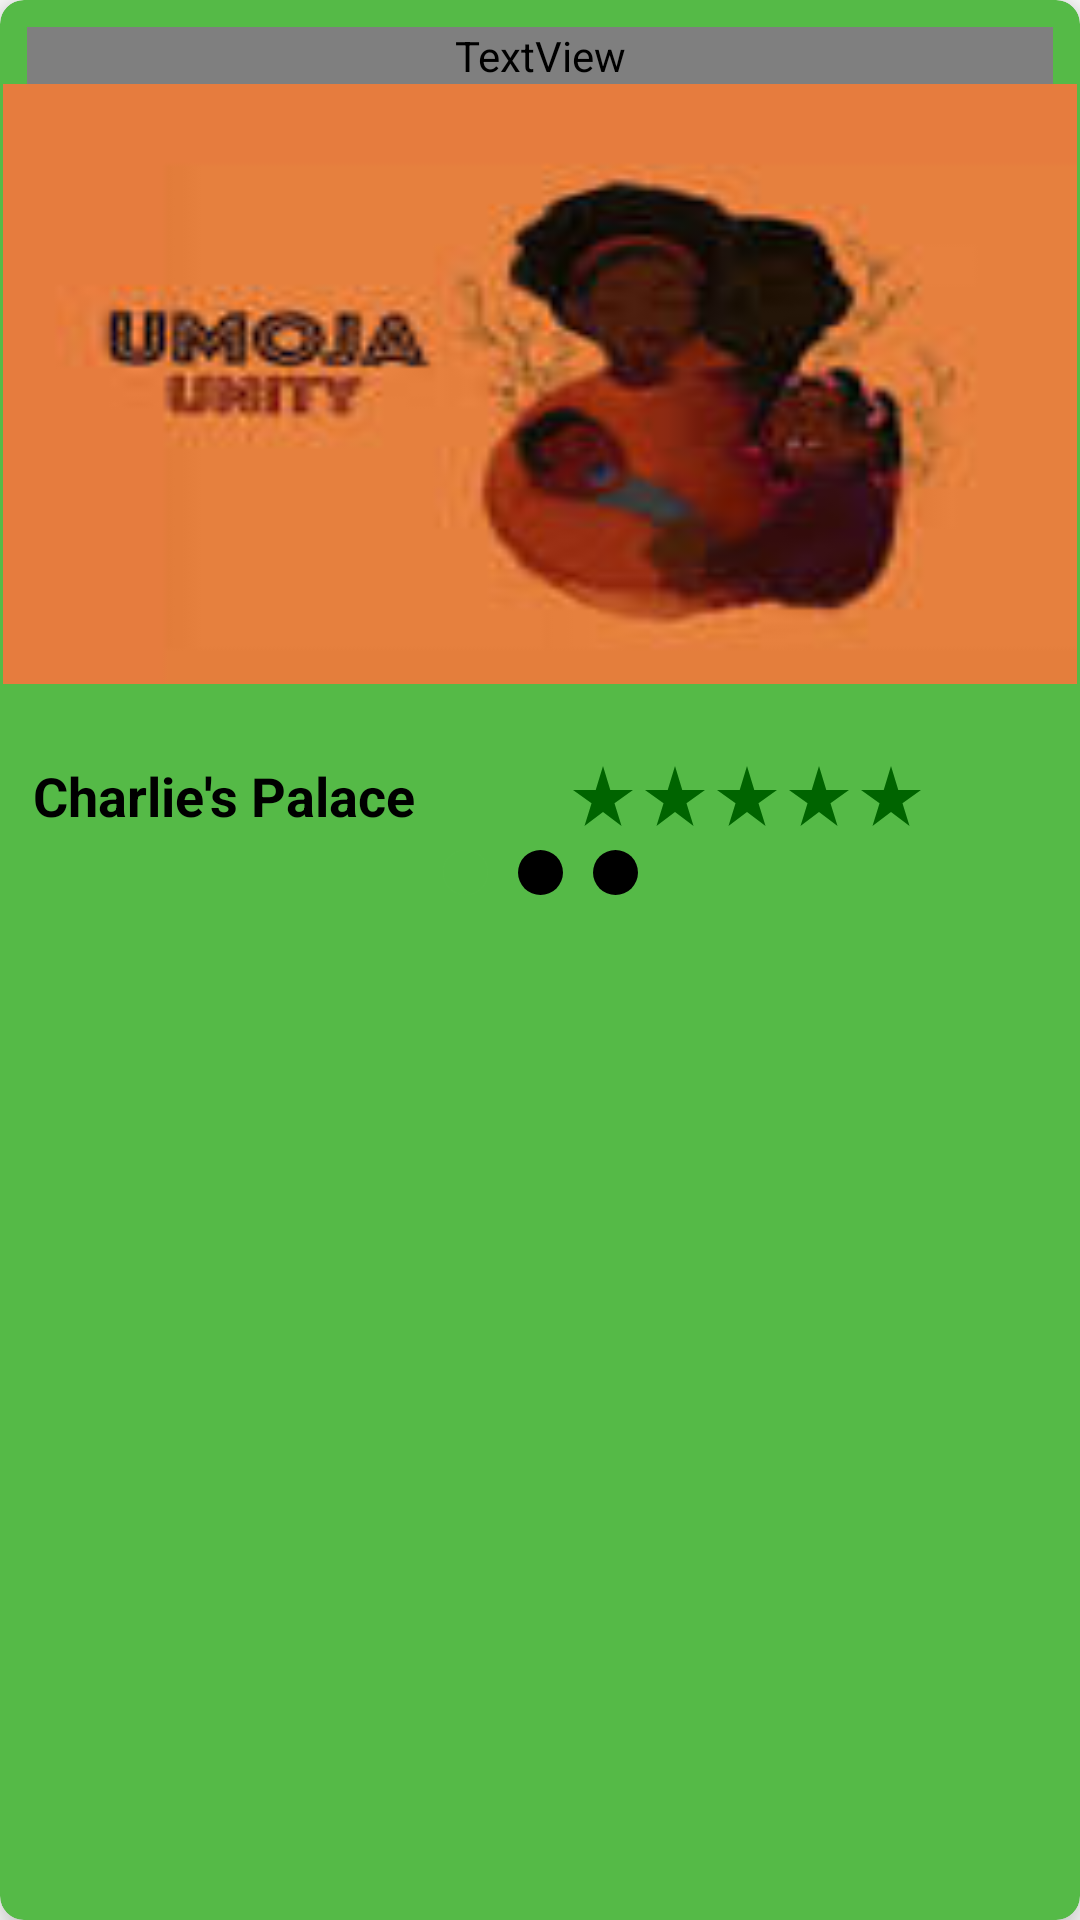

Screen size 1080px x 1920px. Icon name, then its box in pixels as (x1, y1, x2, y2):
star: (573, 767, 633, 826), (645, 767, 705, 826), (717, 767, 777, 826), (789, 767, 849, 826), (861, 767, 921, 826)
